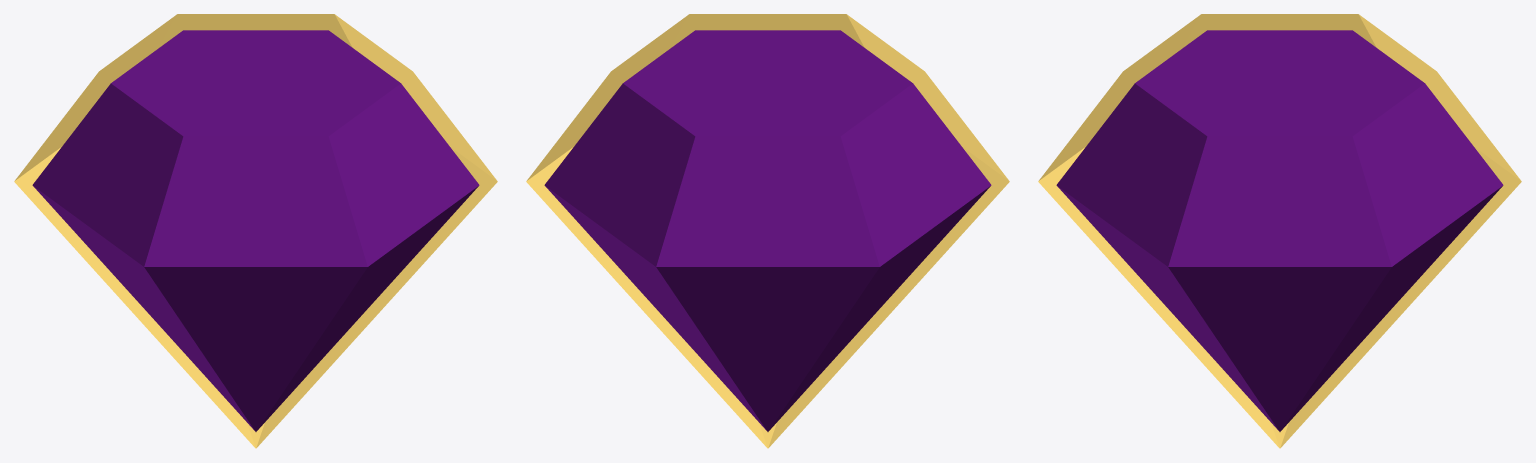
The model's file is gemPurple.glb.
3 renders of one model, left to right at view 1: azimuth 30°, elevation 25°; view 2: azimuth 150°, elevation 25°; view 3: azimuth 270°, elevation 25°, orthographic.
Visible parts, largest first — view 1: GemPurpleAnimated, GemPurpleAnimatedOutline; view 2: GemPurpleAnimated, GemPurpleAnimatedOutline; view 3: GemPurpleAnimated, GemPurpleAnimatedOutline.
Part boxes in pixels (x1,y1,x2,y2): GemPurpleAnimated: [32, 30, 479, 431]; GemPurpleAnimatedOutline: [14, 14, 497, 448]; GemPurpleAnimated: [544, 30, 991, 431]; GemPurpleAnimatedOutline: [526, 14, 1009, 448]; GemPurpleAnimated: [1056, 30, 1503, 431]; GemPurpleAnimatedOutline: [1038, 14, 1521, 448].
Bounding box in the file's own units: 1.1 × 1.09 × 1.27.
Materials: 2 (2 with a texture image).
